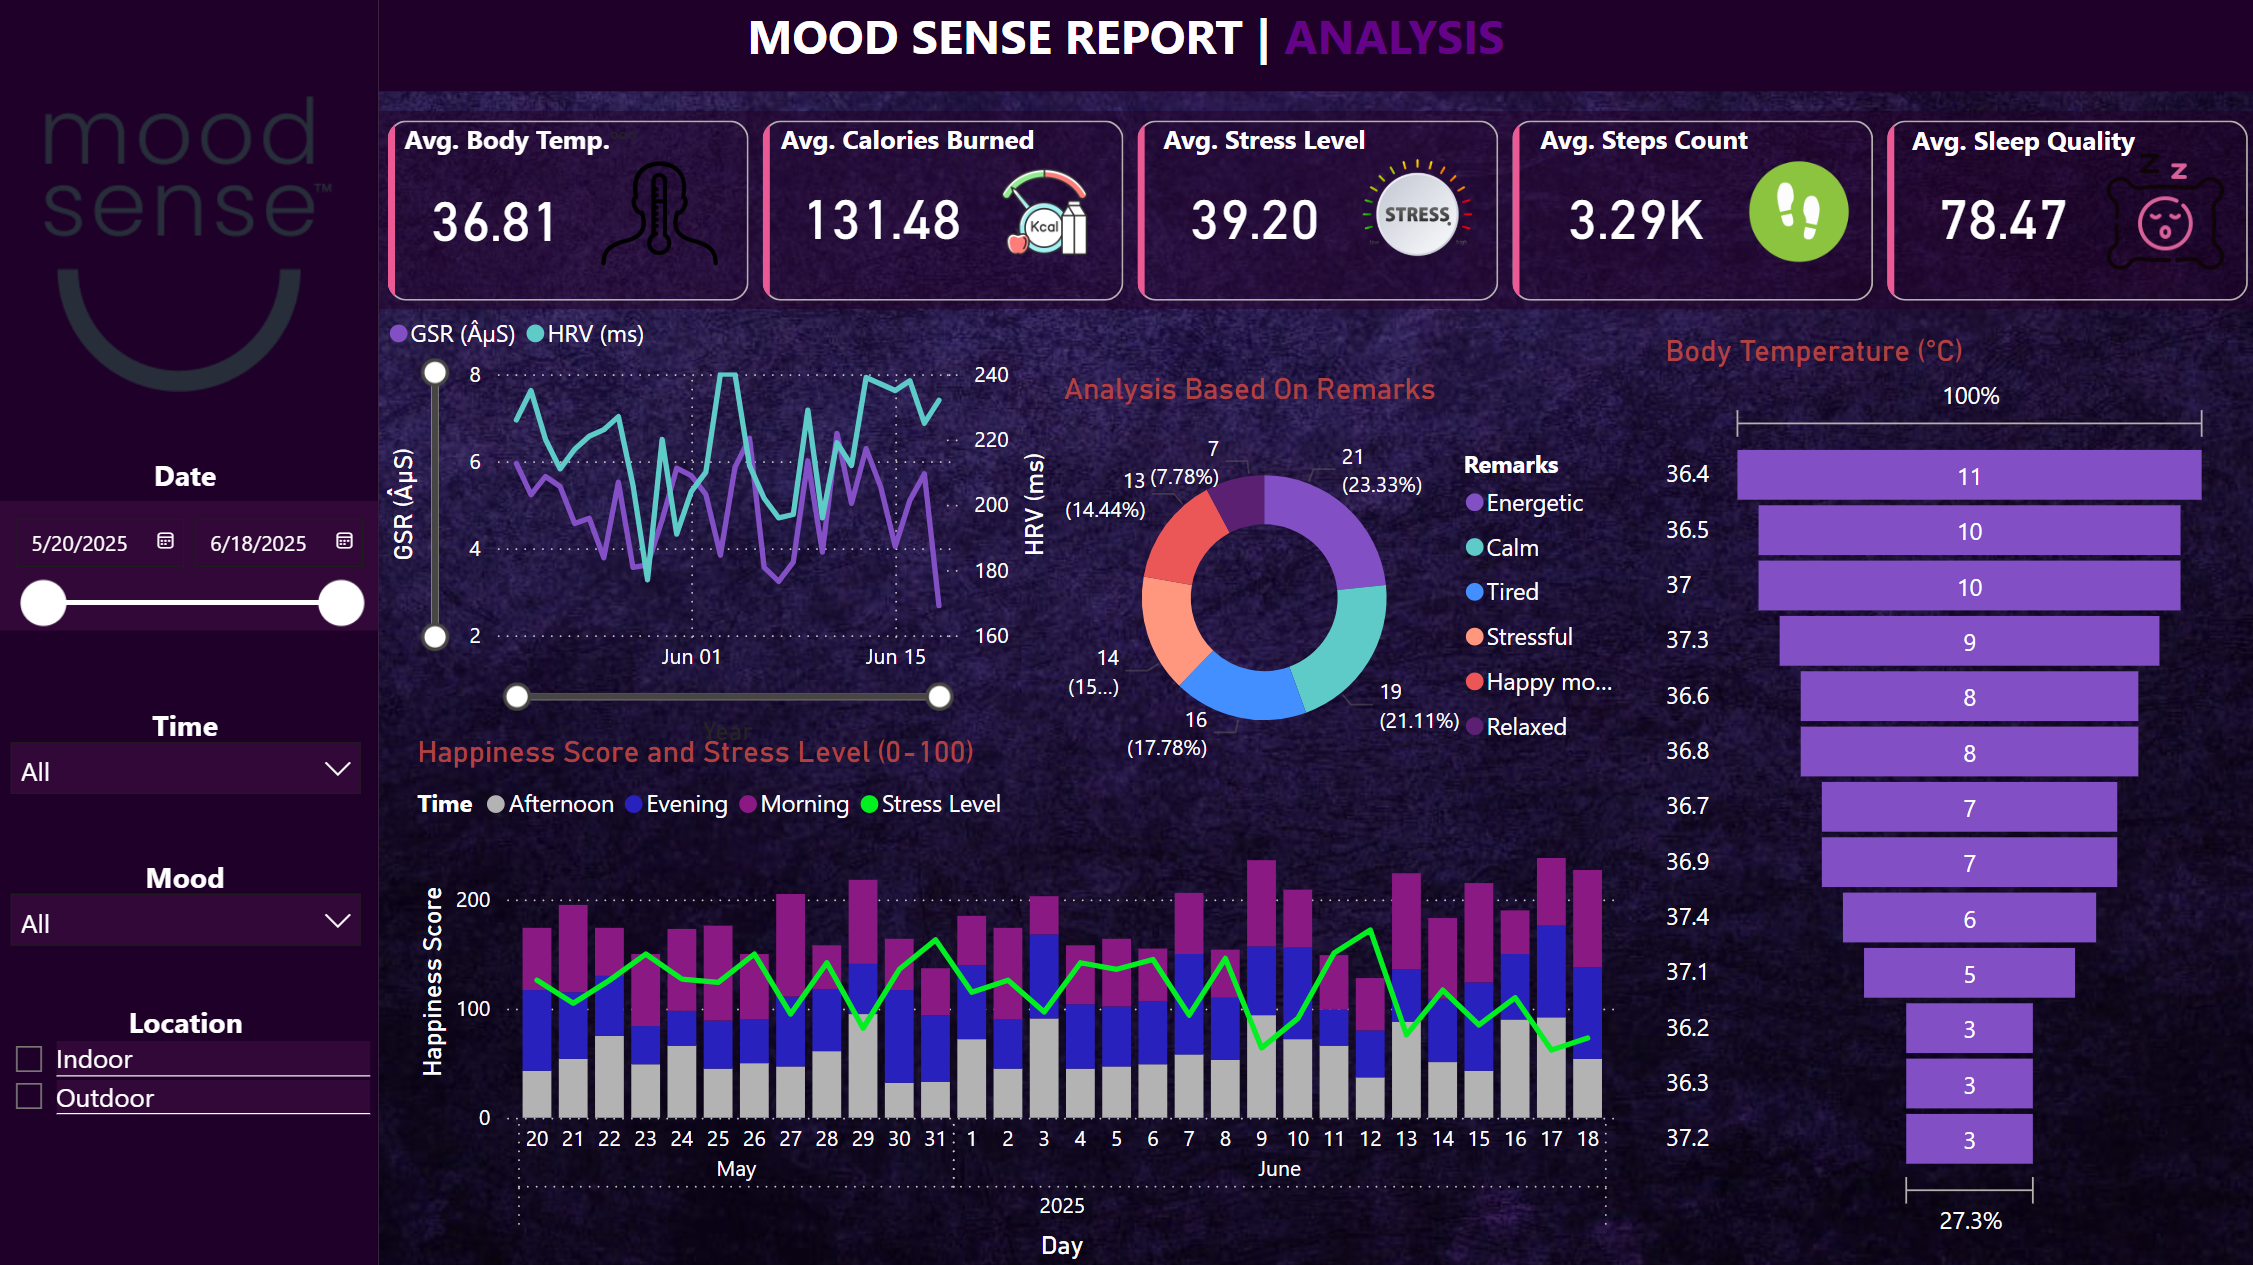

This screenshot's page, from the dashboard's own definition file:
{"tool":"powerbi","page":{"name":"Page 1","canvas":[1280,720],"ordinal":0},"visuals":[{"type":"shape","box":[10,0,1270,55],"z":0},{"type":"cardVisual","fields":{"Data":["MoodSense_30Days_Data.Avg. Body Temp.","MoodSense_30Days_Data.Avg. Calories Burned","MoodSense_30Days_Data.Avg. Stress Level","MoodSense_30Days_Data.Avg. Steps Count","MoodSense_30Days_Data.Avg. Sleep Quality"]},"box":[218,66,1062,112],"z":1000},{"type":"lineStackedColumnComboChart","title":"Happiness Score and Stress Level (0-100)","fields":{"Category":["MoodSense_30Days_Data.Date.Variation.Date Hierarchy.Year","MoodSense_30Days_Data.Date.Variation.Date Hierarchy.Month","MoodSense_30Days_Data.Date.Variation.Date Hierarchy.Day"],"Series":["MoodSense_30Days_Data.Time"],"Y":["Sum(MoodSense_30Days_Data.Happiness Score (0-100))"],"Y2":["Sum(MoodSense_30Days_Data.Stress Level (0-100))"]},"box":[235,418,688,302],"z":2000},{"type":"donutChart","title":"Analysis Based On Remarks","fields":{"Category":["MoodSense_30Days_Data.Remarks"],"Y":["CountNonNull(MoodSense_30Days_Data.Remarks)"]},"box":[601,213,333,237],"z":3000},{"type":"funnel","title":"Body Temperature (°C)","fields":{"Category":["MoodSense_30Days_Data.Body Temp (Â°C)"],"Y":["CountNonNull(MoodSense_30Days_Data.Body Temp (Â°C))"]},"box":[941,192,318,516],"z":4000},{"type":"lineChart","title":"GSR (ÂµS) and HRV (ms) Analysis","fields":{"Category":["MoodSense_30Days_Data.Date.Variation.Date Hierarchy.Year","MoodSense_30Days_Data.Date.Variation.Date Hierarchy.Quarter","MoodSense_30Days_Data.Date.Variation.Date Hierarchy.Month","MoodSense_30Days_Data.Date.Variation.Date Hierarchy.Day"],"Y":["Sum(MoodSense_30Days_Data.GSR (ÂµS))"],"Y2":["Sum(MoodSense_30Days_Data.HRV (ms))"]},"box":[218,171,383,258],"z":5000},{"type":"shape","box":[0,0,218,720],"z":6000},{"type":"slicer","fields":{"Values":["MoodSense_30Days_Data.Time"]},"box":[0,413,218,47],"z":7000},{"type":"image","box":[0,52,218,178],"z":8000},{"type":"textbox","box":[50,565,118,32],"z":9000},{"type":"slicer","fields":{"Values":["MoodSense_30Days_Data.Date"]},"box":[0,287,218,73],"z":10000},{"type":"textbox","box":[58,483,102,32],"z":11000},{"type":"textbox","box":[58,397,102,32],"z":12000},{"type":"textbox","box":[58,255,102,32],"z":13000},{"type":"slicer","fields":{"Values":["MoodSense_30Days_Data.Mood"]},"box":[0,499,218,47],"z":14000},{"type":"slicer","fields":{"Values":["MoodSense_30Days_Data.Location Type"]},"box":[0,586,218,64],"z":15000},{"type":"textbox","box":[423,66,188,33],"z":16000},{"type":"textbox","box":[218.3,65.9,160.6,34.3],"z":17000},{"type":"textbox","box":[854,66,159,33],"z":18000},{"type":"textbox","box":[640,66,159,33],"z":19000},{"type":"textbox","box":[1069,67,159,33],"z":20000},{"type":"textbox","box":[407,0,467,52],"z":21000}]}

Visuals, with their boxes in screenshot pixels (x1, y1, x2, y2), scaled from the page's 1280x720 canvas onto the 2253x1265 screenshot:
shape: detection(18, 0, 2252, 97)
cardVisual - MoodSense_30Days_Data.Avg. Body Temp. x MoodSense_30Days_Data.Avg. Calories Burned: detection(384, 116, 2252, 313)
"Happiness Score and Stress Level (0-100)" lineStackedColumnComboChart: detection(414, 734, 1625, 1264)
"Analysis Based On Remarks" donutChart: detection(1058, 374, 1644, 791)
"Body Temperature (°C)" funnel: detection(1656, 337, 2216, 1244)
"GSR (ÂµS) and HRV (ms) Analysis" lineChart: detection(384, 300, 1058, 754)
shape: detection(0, 0, 384, 1264)
slicer - MoodSense_30Days_Data.Time: detection(0, 726, 384, 808)
image: detection(0, 91, 384, 404)
textbox: detection(88, 993, 296, 1049)
slicer - MoodSense_30Days_Data.Date: detection(0, 504, 384, 632)
textbox: detection(102, 849, 282, 905)
textbox: detection(102, 698, 282, 754)
textbox: detection(102, 448, 282, 504)
slicer - MoodSense_30Days_Data.Mood: detection(0, 877, 384, 959)
slicer - MoodSense_30Days_Data.Location Type: detection(0, 1030, 384, 1142)
textbox: detection(745, 116, 1075, 174)
textbox: detection(384, 116, 667, 176)
textbox: detection(1503, 116, 1783, 174)
textbox: detection(1126, 116, 1406, 174)
textbox: detection(1882, 118, 2161, 176)
textbox: detection(716, 0, 1538, 91)
